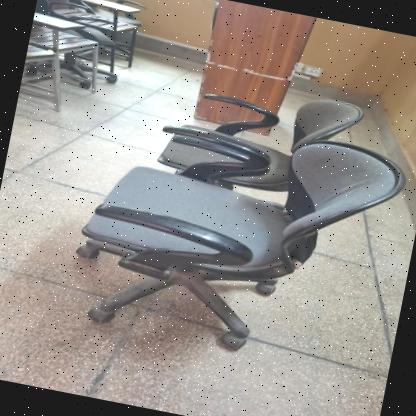chair: (59, 90, 411, 386), (146, 52, 372, 206)
